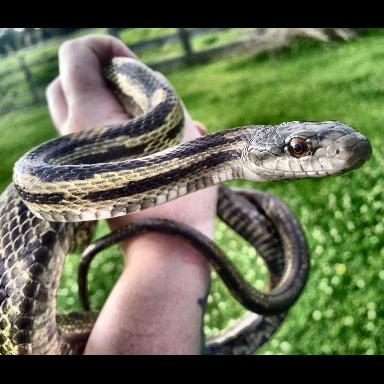snake: (0, 35, 373, 355)
